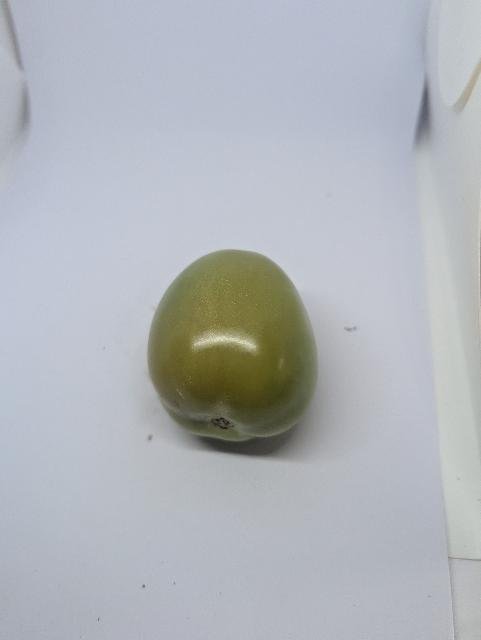green: (145, 247, 321, 443)
